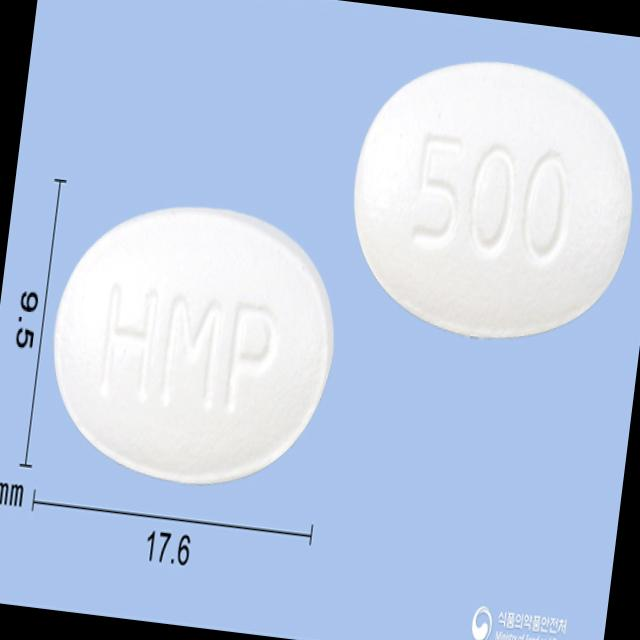Amoclan Duo Tab- Myungmoon: (35, 186, 352, 506), (336, 45, 640, 357)
